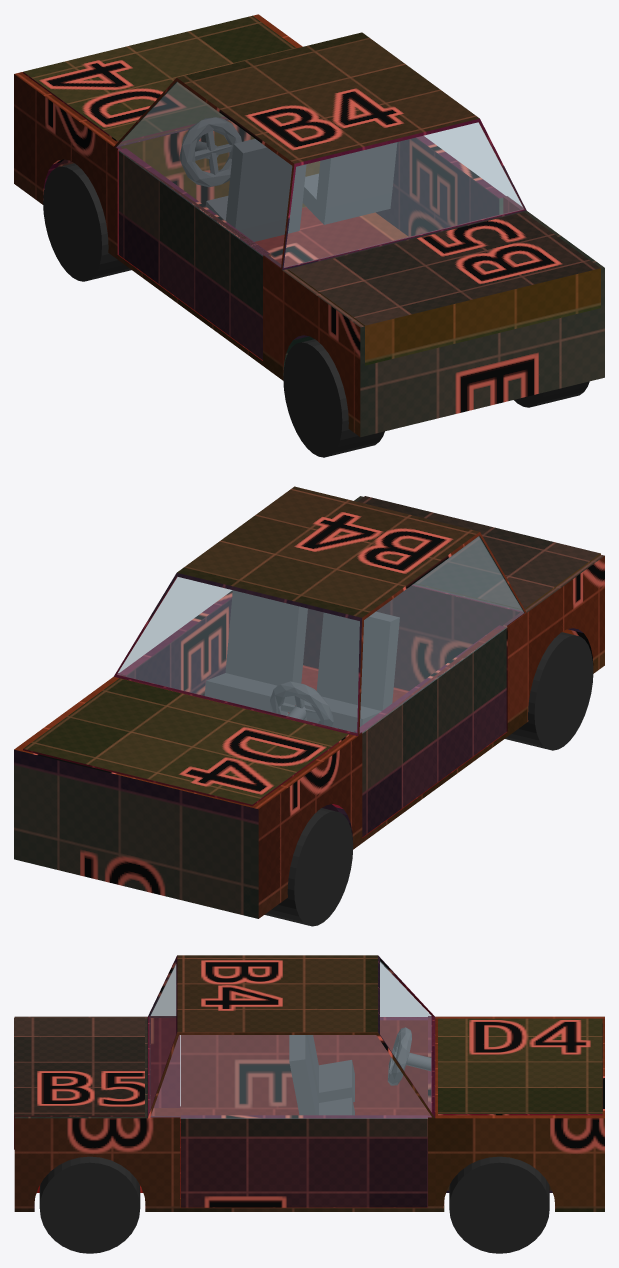
Rendered from sedan_v02.glb.
3 renders of one model, top to bottom at view 1: azimuth 30°, elevation 25°; view 2: azimuth 150°, elevation 25°; view 3: azimuth 270°, elevation 25°, orthographic. The views are drawn at different scales.
Visible parts, largest first — view 1: Body, Trunk, Glass.Rear, Door.Driver, Hood, Glass.Door.Driver, Door.Passenger, Seat.Driver, Wheel.Driver.Back, Wheel.Driver.Front, Seat.Passenger, Glass.Windshield (+4 smaller); view 2: Body, Glass.Windshield, Hood, Door.Driver, Glass.Door.Driver, Trunk, Seat.Passenger, Seat.Driver, Wheel.Driver.Back, Wheel.Driver.Front, Door.Passenger, Glass.Rear (+3 smaller); view 3: Body, Door.Passenger, Glass.Door.Passenger, Hood, Door.Driver, Trunk, Wheel.Passenger.Back, Wheel.Passenger.Front, Glass.Windshield, Glass.Rear, Seat.Passenger, Seat.Driver (+4 smaller).
Boxes of the visible parts, x1=… form: Body: x1=14, y1=14, x2=604, y2=437; Trunk: x1=288, y1=212, x2=600, y2=365; Glass.Rear: x1=284, y1=122, x2=523, y2=267; Door.Driver: x1=118, y1=148, x2=270, y2=359; Hood: x1=23, y1=15, x2=296, y2=143; Glass.Door.Driver: x1=117, y1=82, x2=291, y2=256; Door.Passenger: x1=376, y1=136, x2=505, y2=236; Seat.Driver: x1=205, y1=139, x2=306, y2=241; Wheel.Driver.Back: x1=283, y1=339, x2=384, y2=457; Wheel.Driver.Front: x1=43, y1=163, x2=131, y2=281; Seat.Passenger: x1=302, y1=142, x2=397, y2=224; Glass.Windshield: x1=117, y1=82, x2=228, y2=146; Body: x1=14, y1=486, x2=604, y2=918; Glass.Windshield: x1=117, y1=577, x2=359, y2=732; Hood: x1=23, y1=678, x2=348, y2=806; Door.Driver: x1=354, y1=625, x2=506, y2=836; Glass.Door.Driver: x1=360, y1=537, x2=506, y2=733; Trunk: x1=357, y1=496, x2=600, y2=609; Seat.Passenger: x1=204, y1=590, x2=307, y2=712; Seat.Driver: x1=304, y1=611, x2=399, y2=732; Wheel.Driver.Back: x1=505, y1=632, x2=593, y2=750; Wheel.Driver.Front: x1=264, y1=808, x2=353, y2=926; Door.Passenger: x1=120, y1=590, x2=232, y2=695; Glass.Rear: x1=413, y1=537, x2=522, y2=611; Body: x1=14, y1=955, x2=604, y2=1211; Door.Passenger: x1=181, y1=1115, x2=427, y2=1207; Glass.Door.Passenger: x1=181, y1=1035, x2=430, y2=1118; Hood: x1=438, y1=1018, x2=602, y2=1115; Door.Driver: x1=181, y1=1017, x2=427, y2=1109; Trunk: x1=14, y1=1017, x2=144, y2=1149; Wheel.Passenger.Back: x1=39, y1=1156, x2=140, y2=1253; Wheel.Passenger.Front: x1=449, y1=1156, x2=549, y2=1253; Glass.Windshield: x1=380, y1=961, x2=431, y2=1116; Glass.Rear: x1=149, y1=963, x2=175, y2=1111; Seat.Passenger: x1=289, y1=1035, x2=354, y2=1115; Seat.Driver: x1=306, y1=1035, x2=354, y2=1102.
Size of the model in its own units: 2.03 by 1.89 by 4.87.
Materials: 4 (1 with a texture image).
